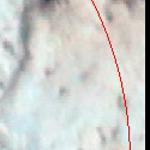alive: (6, 4, 141, 146)
